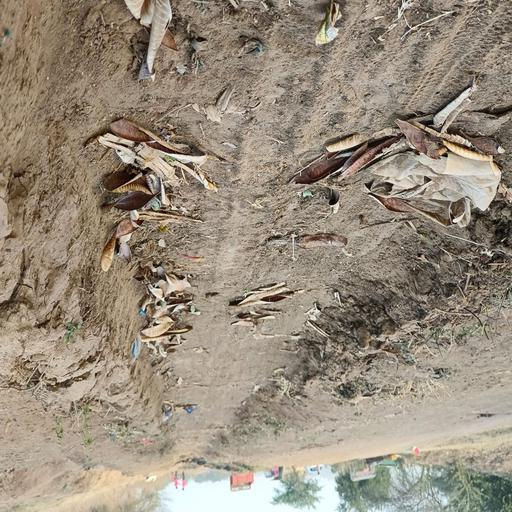vehicle_track: (157, 0, 512, 463)
